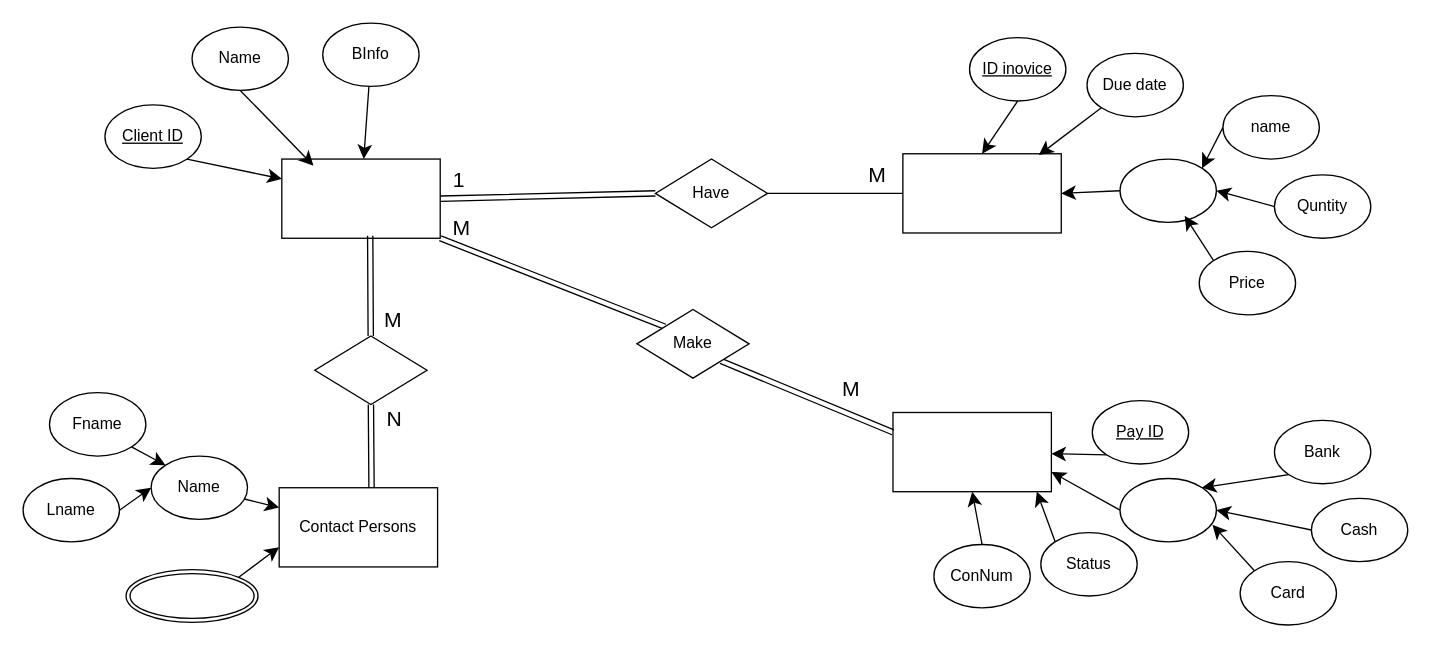
Some shapes in this 1431 by 648 pixel diagram are drawn without their labels. Here are the shapes that lost their labels. From the top down, the centre of each, then its label:
the point at 360,198: Clients
the point at 981,192: Invoice
the point at 1167,190: Item
the point at 370,370: Register
the point at 971,451: Payments
the point at 1167,509: Method
the point at 191,595: Phone No
